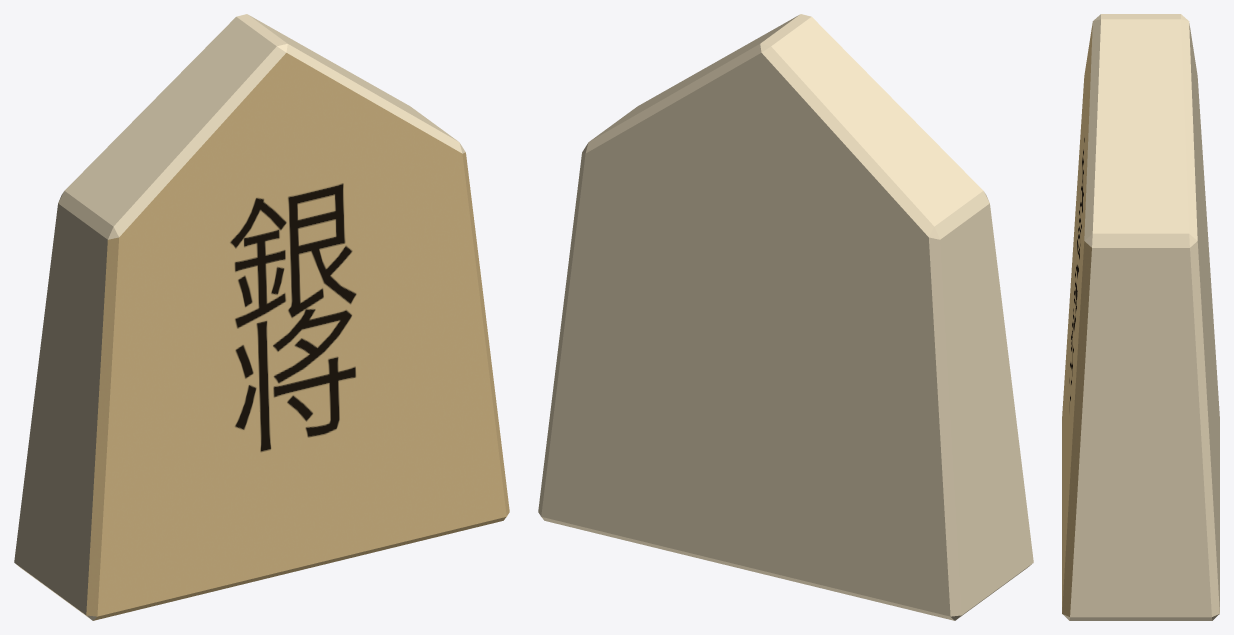
The model's file is Shogi_Silver.glb.
The picture shows the model from 3 angles, left to right: view 1: azimuth 30°, elevation 25°; view 2: azimuth 150°, elevation 25°; view 3: azimuth 270°, elevation 25°; orthographic projection.
Visible parts, largest first — view 1: Shogi_Silver; view 2: Shogi_Silver; view 3: Shogi_Silver.
Part boxes in pixels (left/top/right/bottom): Shogi_Silver: left=14, top=14, right=509, bottom=620; Shogi_Silver: left=538, top=14, right=1033, bottom=620; Shogi_Silver: left=1062, top=14, right=1219, bottom=620.
Bounding box in the file's own units: 0.025 × 0.029 × 0.0082.
Materials: 2 (1 with a texture image).
